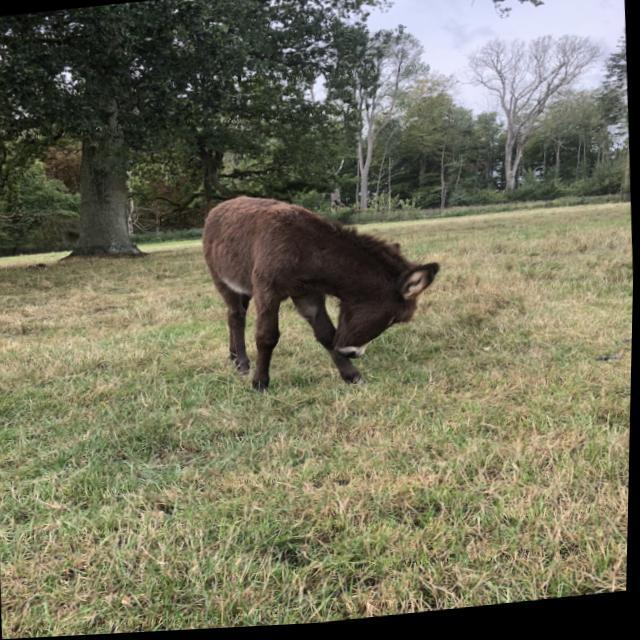Donkey: (196, 178, 451, 404)
